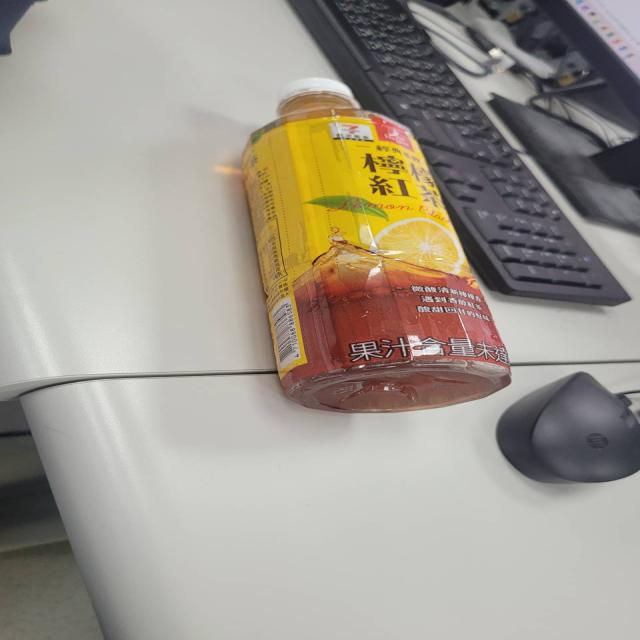PET bottle: (231, 67, 524, 416)
